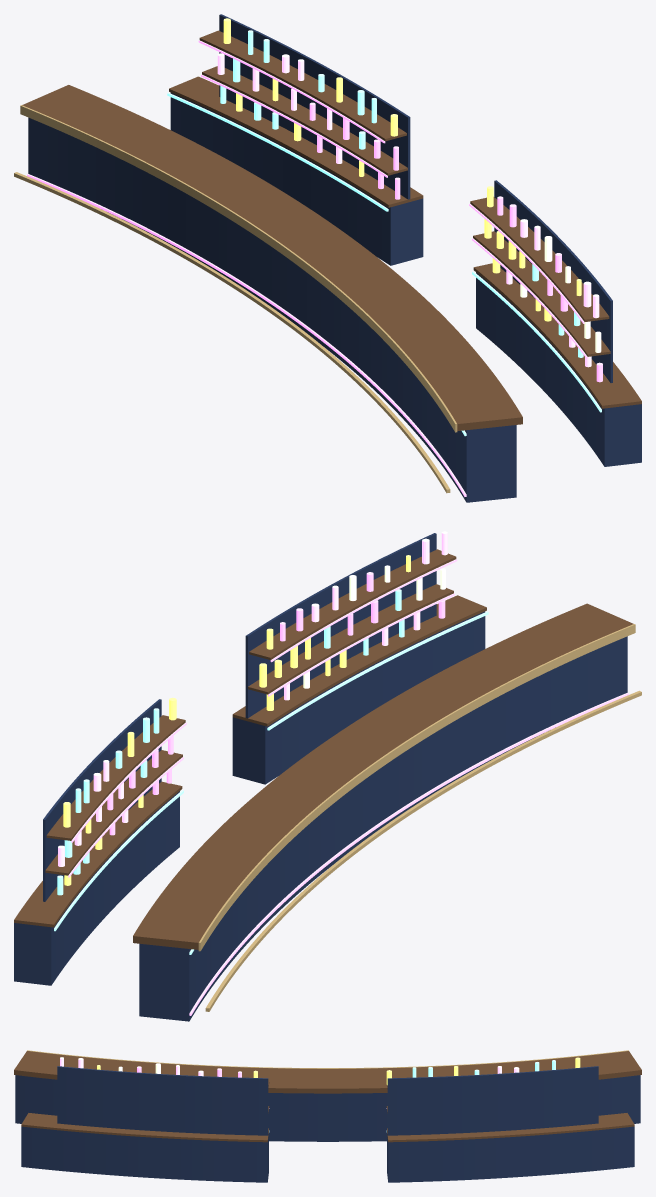
File: space_bar.glb
3 renders of one model, top to bottom at view 1: azimuth 30°, elevation 25°; view 2: azimuth 150°, elevation 25°; view 3: azimuth 270°, elevation 25°, orthographic. The views are drawn at different scales.
Parts seen in each view (by area): view 1: Body, Top, BackRCabinet, BackCabinet, BackRBackPanel, TopEdge, BackRCabinetTop, BackCabinetTop, BackRShelf1, FootRail, BackRShelf0, BackBackPanel (+5 smaller); view 2: Body, Top, BackCabinet, BackRCabinet, BackBackPanel, TopEdge, BackCabinetTop, BackRCabinetTop, BackShelf1, FootRail, BackShelf0, BackRBackPanel (+5 smaller); view 3: BackBackPanel, BackRBackPanel, BackCabinet, BackRCabinet, Body, Top, BackCabinetTop, BackRCabinetTop, TopEdge.
Part boxes in pixels (bbox=[...]): Body: bbox=[28, 117, 516, 502]; Top: bbox=[22, 85, 522, 430]; BackRCabinet: bbox=[170, 92, 423, 265]; BackCabinet: bbox=[476, 272, 641, 466]; BackRBackPanel: bbox=[219, 14, 410, 199]; TopEdge: bbox=[20, 105, 457, 432]; BackRCabinetTop: bbox=[169, 76, 423, 207]; BackCabinetTop: bbox=[473, 263, 641, 408]; BackRShelf1: bbox=[199, 30, 406, 141]; FootRail: bbox=[14, 172, 450, 493]; BackRShelf0: bbox=[202, 66, 407, 175]; BackBackPanel: bbox=[494, 180, 612, 382]; Body: bbox=[139, 636, 627, 1021]; Top: bbox=[133, 603, 633, 949]; BackCabinet: bbox=[232, 611, 485, 784]; BackRCabinet: bbox=[14, 791, 179, 985]; BackBackPanel: bbox=[245, 533, 436, 718]; TopEdge: bbox=[198, 624, 635, 951]; BackCabinetTop: bbox=[232, 595, 486, 726]; BackRCabinetTop: bbox=[14, 781, 182, 927]; BackShelf1: bbox=[249, 549, 456, 659]; FootRail: bbox=[205, 690, 641, 1011]; BackShelf0: bbox=[248, 584, 453, 694]; BackRBackPanel: bbox=[43, 699, 161, 901]; BackBackPanel: bbox=[57, 1066, 268, 1135]; BackRBackPanel: bbox=[387, 1066, 598, 1135]; BackCabinet: bbox=[21, 1126, 268, 1182]; BackRCabinet: bbox=[387, 1126, 634, 1182]; Body: bbox=[15, 1075, 640, 1141]; Top: bbox=[14, 1051, 641, 1093]; BackCabinetTop: bbox=[21, 1113, 268, 1142]; BackRCabinetTop: bbox=[387, 1113, 634, 1142]; TopEdge: bbox=[27, 1050, 628, 1068].
Bounding box in the file's own units: 4.23 × 2.59 × 14.06.
